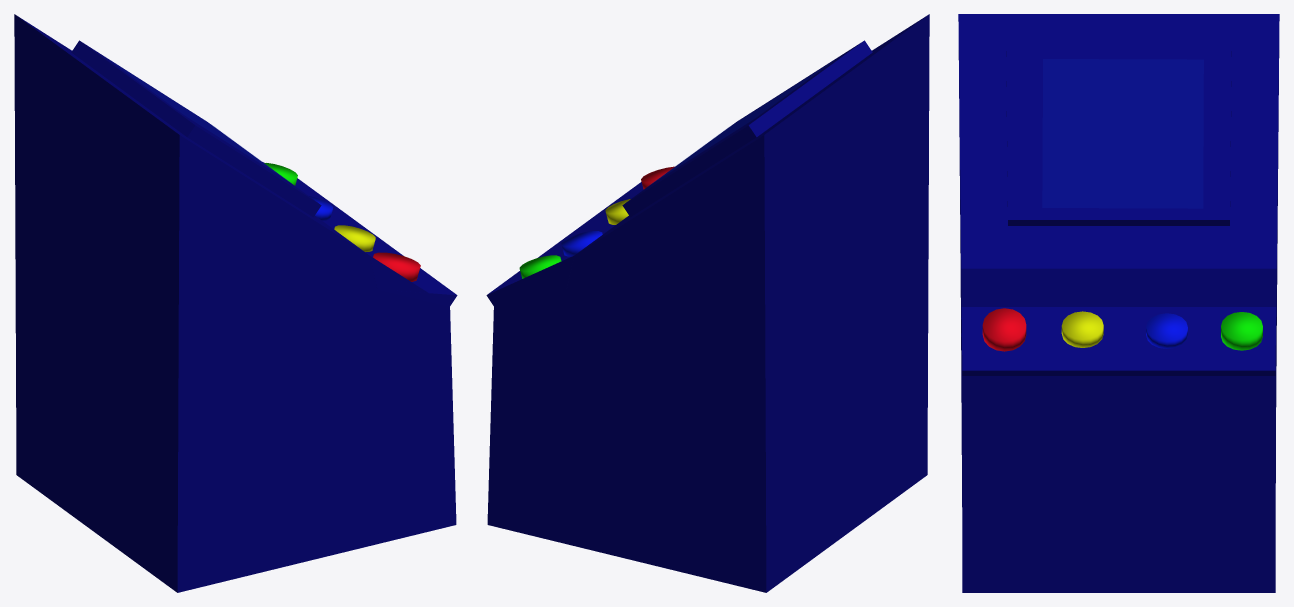
Rendered from Arcade_Final.glb.
3 renders of one model, left to right at view 1: azimuth 30°, elevation 25°; view 2: azimuth 150°, elevation 25°; view 3: azimuth 270°, elevation 25°, orthographic. The views are drawn at different scales.
Parts seen in each view (by area): view 1: Cube; view 2: Cube; view 3: Cube.
Part boxes in pixels (x1,y1,x2,y2): Cube: [14, 14, 457, 592]; Cube: [486, 14, 929, 592]; Cube: [958, 14, 1279, 592].
Size of the model in its own units: 10.71 by 16.8 by 10.94.
